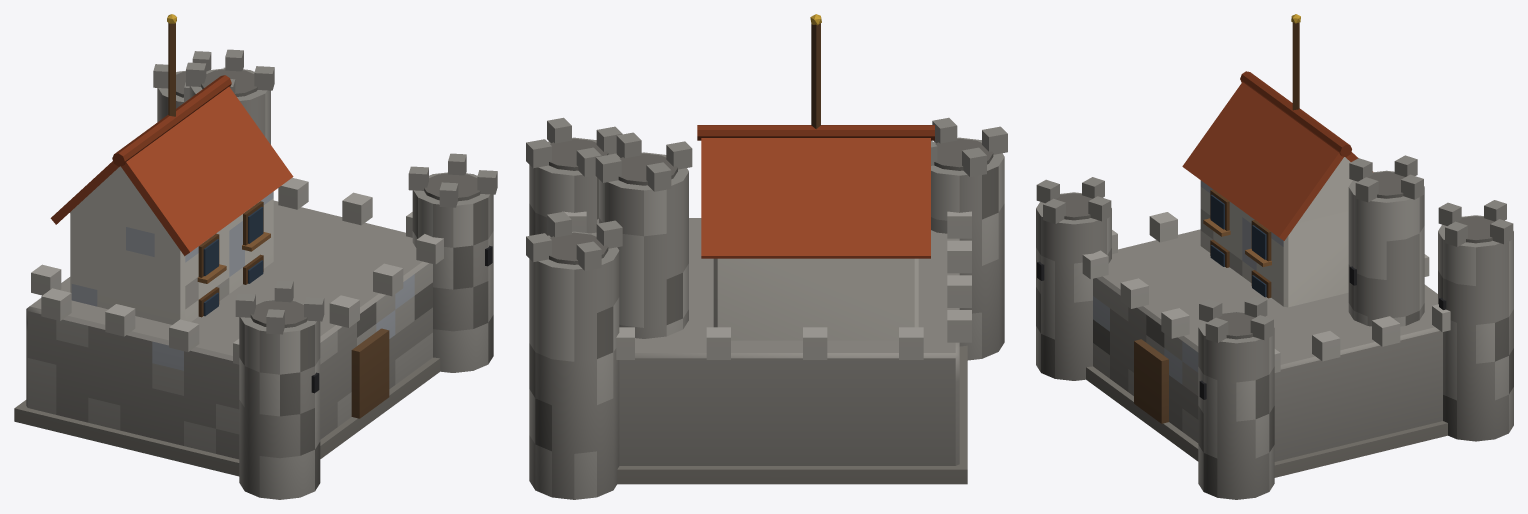
File: building_24.glb
3 views of the same model, side by side, from view 1: azimuth 30°, elevation 25°; view 2: azimuth 150°, elevation 25°; view 3: azimuth 270°, elevation 25° (orthographic). The views are drawn at different scales.
Parts seen in each view (by area): view 1: building_24; view 2: building_24; view 3: building_24.
Part boxes in pixels (box(x1,y1,x2,y2)): building_24: box(14, 14, 497, 499); building_24: box(526, 14, 1007, 499); building_24: box(1036, 14, 1513, 499).
Bounding box in the file's own units: 1.35 × 1.14 × 1.38.
